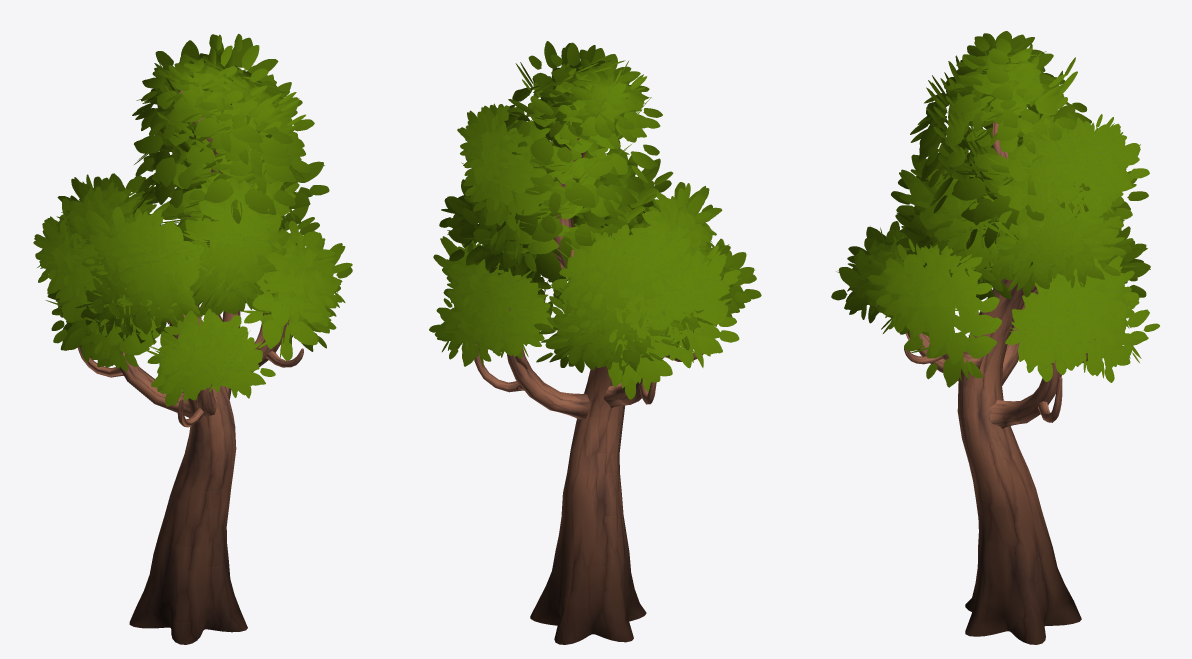
File: commontree_2.glb
3 views of the same model, side by side, from view 1: azimuth 30°, elevation 25°; view 2: azimuth 150°, elevation 25°; view 3: azimuth 270°, elevation 25° (orthographic). The views are drawn at different scales.
Visible parts, largest first — view 1: CommonTree_2; view 2: CommonTree_2; view 3: CommonTree_2.
Part boxes in pixels (<box>): CommonTree_2: <box>33,34,352,644</box>; CommonTree_2: <box>429,41,761,644</box>; CommonTree_2: <box>831,31,1159,644</box>.
Size of the model in its own units: 4.46 by 7.64 by 4.28.
Materials: 2 (2 with a texture image).
